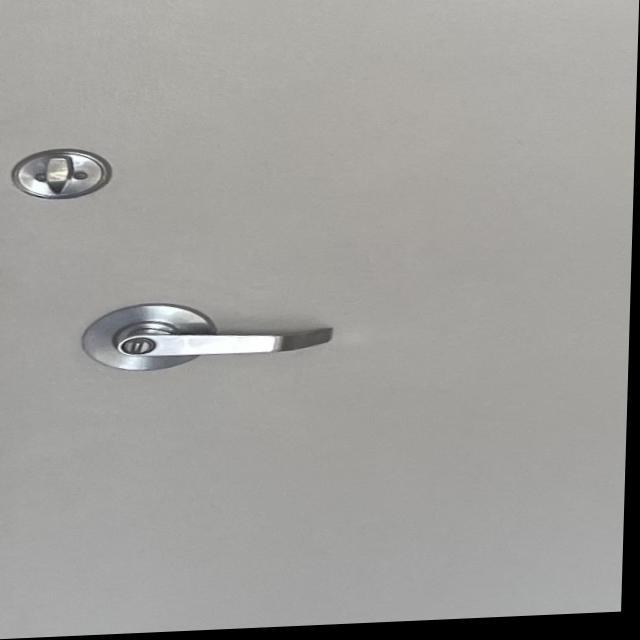door_handle: (94, 297, 360, 387)
